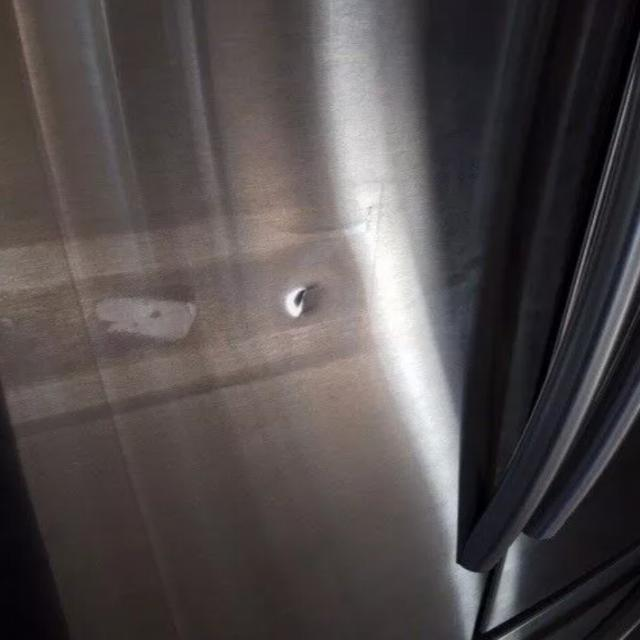dents: (253, 252, 335, 349)
